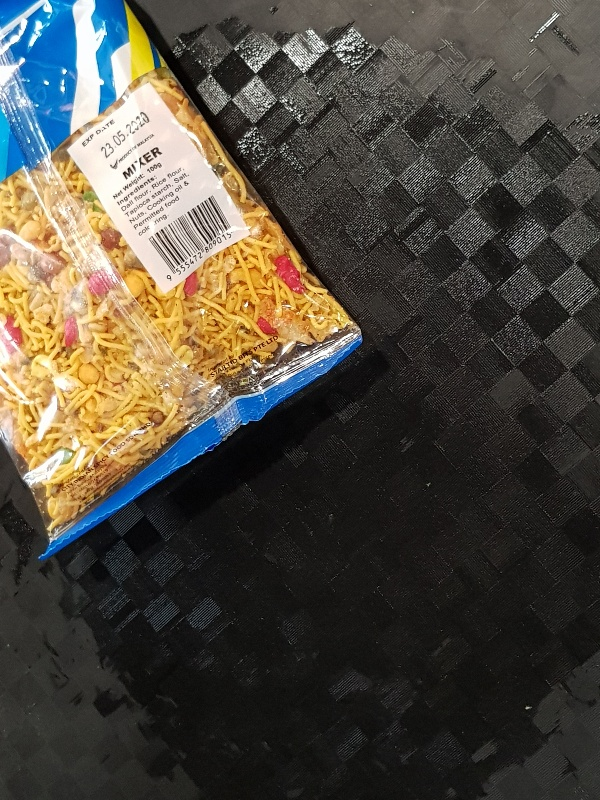Star Tidbits Mixer: (1, 1, 365, 563)
